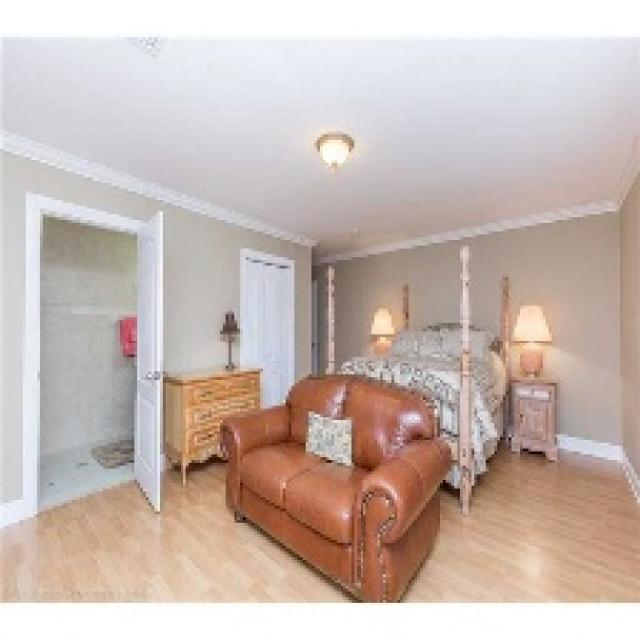Bed: (334, 246, 512, 514)
